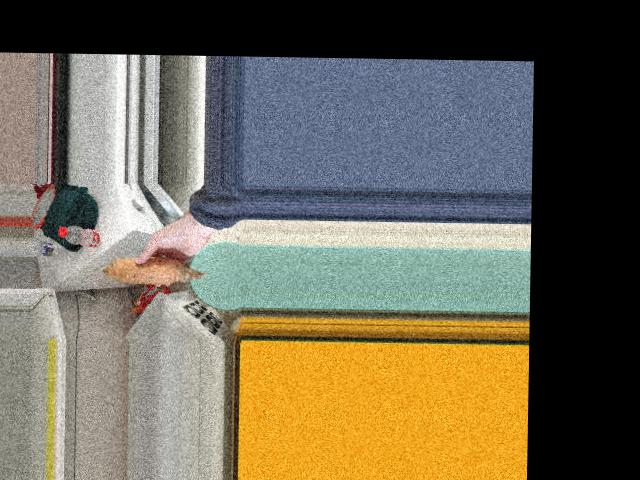sweet_potato: (105, 258, 192, 283)
